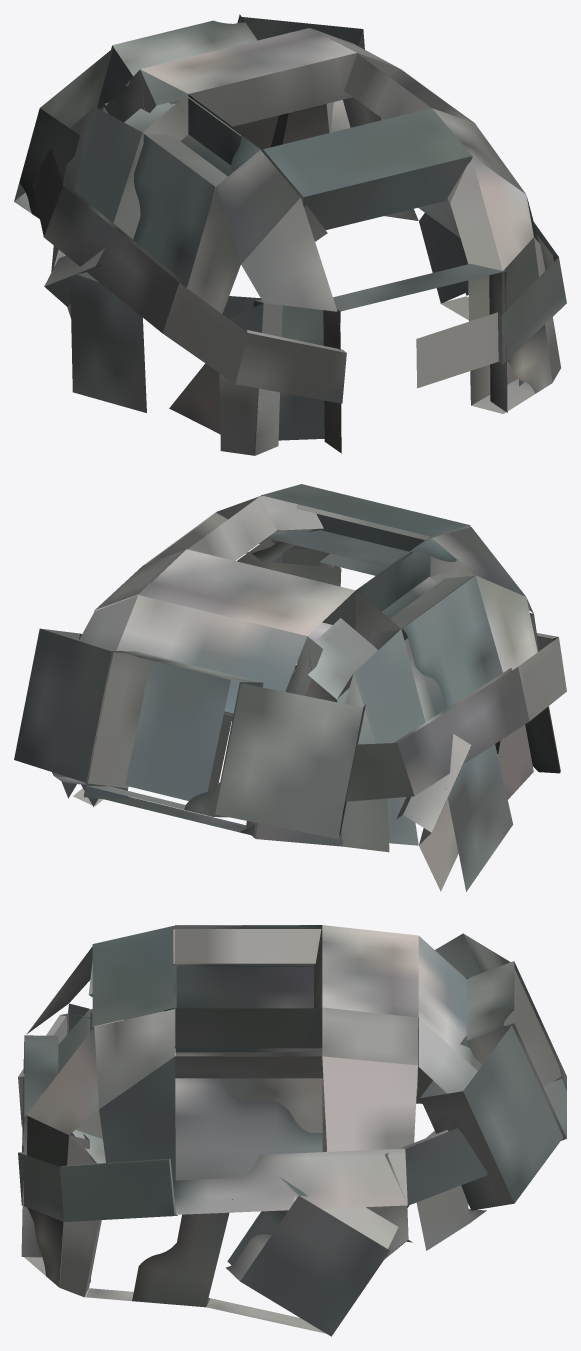
Rendered from us_mobilized_h.obj.
The picture shows the model from 3 angles, top to bottom: view 1: azimuth 30°, elevation 25°; view 2: azimuth 150°, elevation 25°; view 3: azimuth 270°, elevation 25°; orthographic projection.
Parts seen in each view (by area): view 1: cube; view 2: cube; view 3: cube.
Part boxes in pixels (left/top/right/bottom): cube: left=14, top=14, right=566, bottom=455; cube: left=14, top=484, right=566, bottom=891; cube: left=18, top=925, right=566, bottom=1336.
Size of the model in its own units: 0.7803 by 0.517 by 0.9393.
